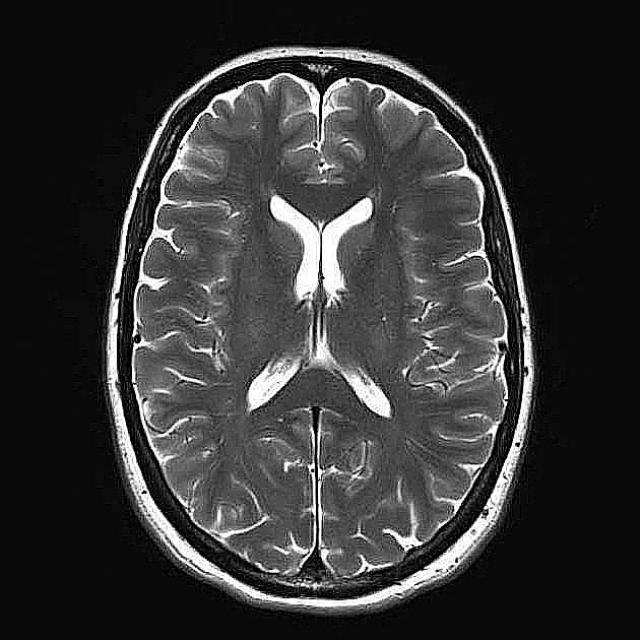notumor: (103, 48, 536, 622)
